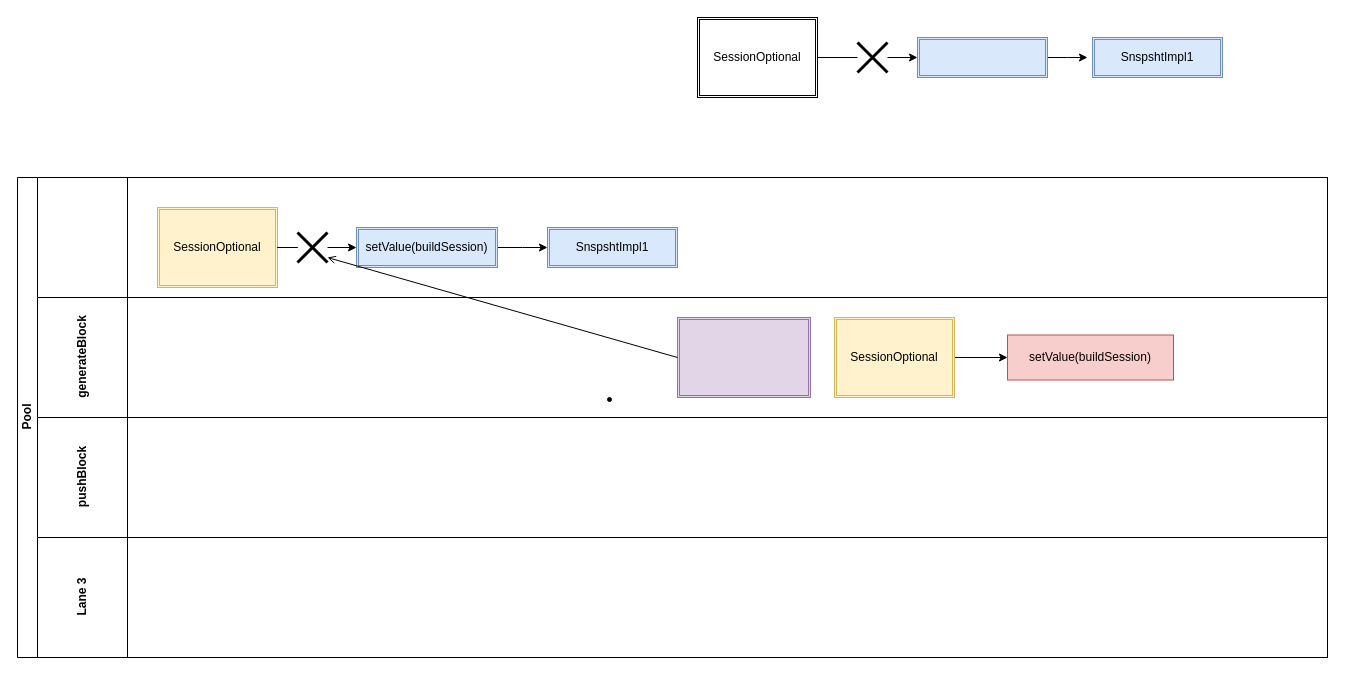
Some shapes in this 1345 by 675 pixel diagram are drawn without their labels. The shapes that lost their labels are listed below. From the top down, each one's box as (x1, y1, x2, y2) in pixels, then its label:
(916, 36, 1048, 78): SnspshtImpl0
(36, 176, 1328, 298): pushTransaction
(676, 316, 810, 398): SessionOptional.reset
